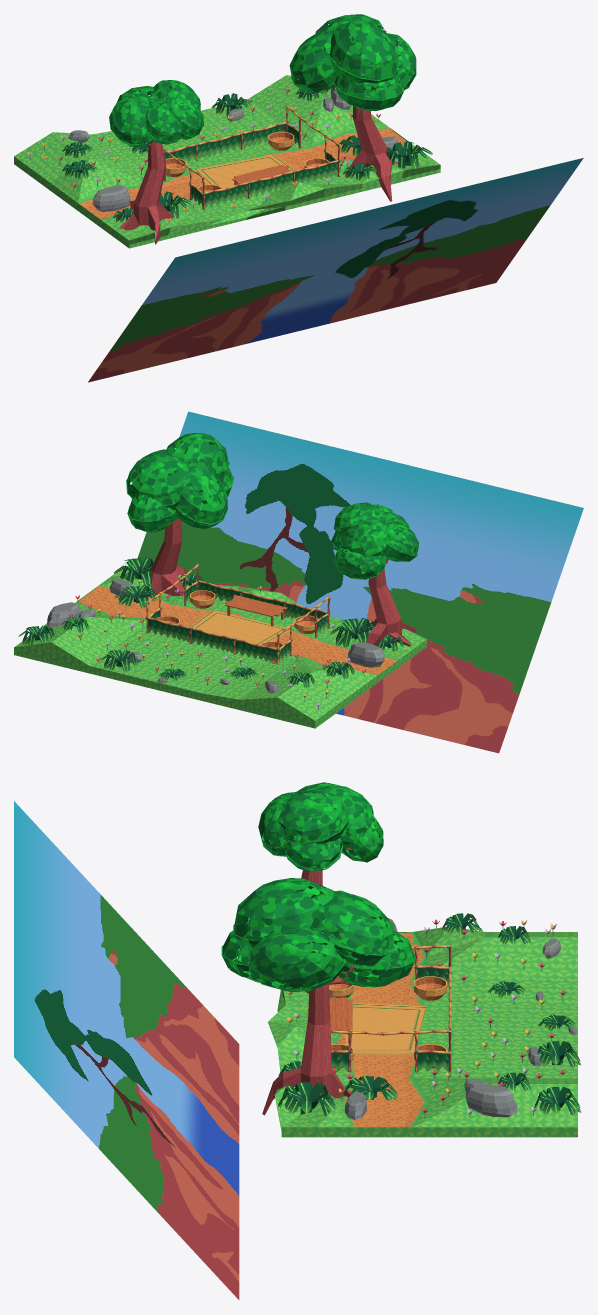
File: CenarioFinal.fbx
3 views of the same model, one above another, from view 1: azimuth 30°, elevation 25°; view 2: azimuth 150°, elevation 25°; view 3: azimuth 270°, elevation 25° (orthographic). The views are drawn at different scales.
Visible parts, largest first — view 1: fundo, terreno, copa da arvore_1, arvore 2, copa da arvore_4, arvore, copa da arvore, copa7, tapete, copa1, copa2, copa6 (+7 smaller); view 2: fundo, terreno, copa da arvore_3, copa da arvore_4, tapete, copa da arvore_1, arvore 2, arvore, copa4, copa da arvore_2, copa8, copa7 (+6 smaller); view 3: fundo, terreno, copa da arvore_5, copa da arvore_1, copa da arvore_3, tapete, arvore, copa6, copa da arvore_2, copa4, copa3, pedra2 (+4 smaller).
Boxes of the visible parts, <box> form: fundo: <box>88,158,583,382</box>; terreno: <box>14,75,440,248</box>; copa da arvore_1: <box>329,20,399,90</box>; arvore 2: <box>119,141,173,244</box>; copa da arvore_4: <box>289,31,351,92</box>; arvore: <box>344,106,398,201</box>; copa da arvore: <box>334,56,404,111</box>; copa7: <box>109,96,162,146</box>; tapete: <box>193,154,297,188</box>; copa1: <box>145,101,185,144</box>; copa2: <box>161,97,203,139</box>; copa6: <box>150,80,200,118</box>; fundo: <box>137,411,583,753</box>; terreno: <box>14,566,426,728</box>; copa da arvore_3: <box>126,451,191,510</box>; copa da arvore_4: <box>170,466,228,529</box>; tapete: <box>187,609,293,644</box>; copa da arvore_1: <box>165,433,229,491</box>; arvore 2: <box>365,569,416,646</box>; arvore: <box>147,518,187,597</box>; copa4: <box>339,517,392,557</box>; copa da arvore_2: <box>127,480,177,532</box>; copa8: <box>334,545,386,579</box>; copa7: <box>374,521,418,561</box>; fundo: <box>14,801,239,1299</box>; terreno: <box>268,927,577,1137</box>; copa da arvore_5: <box>249,927,345,992</box>; copa da arvore_1: <box>233,878,339,952</box>; copa da arvore_3: <box>310,893,394,965</box>; tapete: <box>345,1002,426,1055</box>; arvore: <box>262,983,350,1115</box>; copa6: <box>278,789,349,844</box>; copa da arvore_2: <box>323,925,415,987</box>; copa4: <box>316,784,374,848</box>; copa3: <box>283,834,343,872</box>; pedra2: <box>465,1083,517,1117</box>.
Size of the model in its own units: 2725 by 1718 by 2560.
14 materials, 14 textured.
